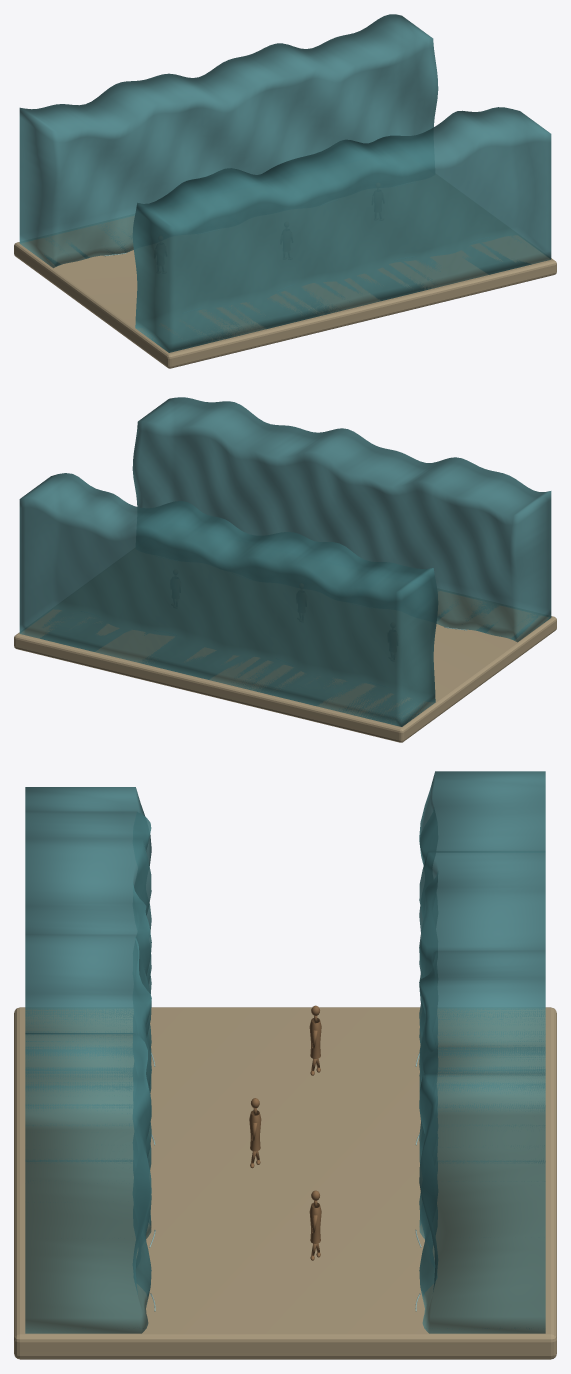
File: crossing-ground.glb
3 views of the same model, one above another, from view 1: azimuth 30°, elevation 25°; view 2: azimuth 150°, elevation 25°; view 3: azimuth 270°, elevation 25° (orthographic). The views are drawn at different scales.
Visible parts, largest first — view 1: crossing-ground-crossing-water-volume.001, crossing-ground-crossing-water-volume, crossing-ground-crossing-cutaway-ground; view 2: crossing-ground-crossing-water-volume, crossing-ground-crossing-water-volume.001, crossing-ground-crossing-cutaway-ground; view 3: crossing-ground-crossing-cutaway-ground, crossing-ground-crossing-water-volume, crossing-ground-crossing-water-volume.001.
Boxes of the visible parts, x1,y1,x2,y2 form: crossing-ground-crossing-water-volume.001: (132,107,551,352); crossing-ground-crossing-water-volume: (19,14,438,268); crossing-ground-crossing-cutaway-ground: (14,216,556,368); crossing-ground-crossing-water-volume: (19,473,438,726); crossing-ground-crossing-water-volume.001: (132,397,551,642); crossing-ground-crossing-cutaway-ground: (14,591,556,742); crossing-ground-crossing-cutaway-ground: (14,1007,556,1359); crossing-ground-crossing-water-volume: (419,771,545,1333); crossing-ground-crossing-water-volume.001: (25,787,151,1333).
Size of the model in its own units: 1.04 by 0.3909 by 0.72.
